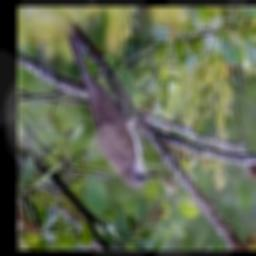Cuckoo: (66, 32, 155, 187)
